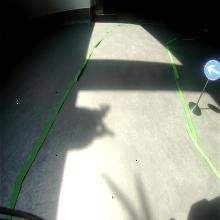left: (204, 59, 220, 81)
